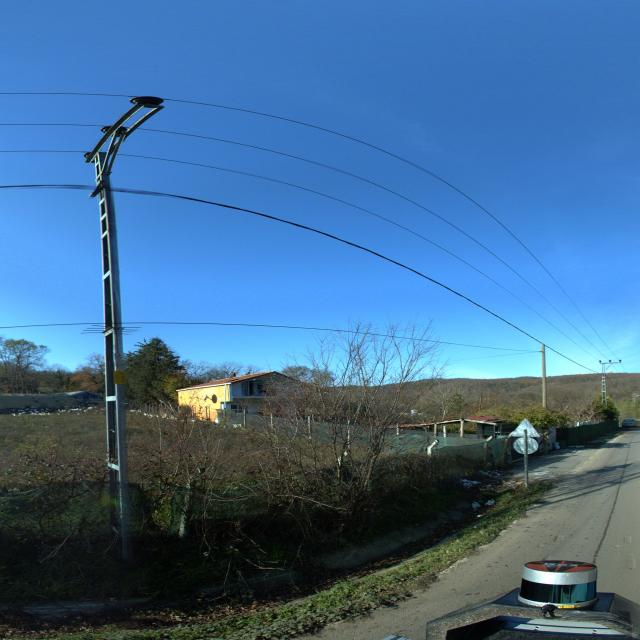Utility Pole Information Plate: (114, 371, 128, 385), (114, 353, 127, 366)
